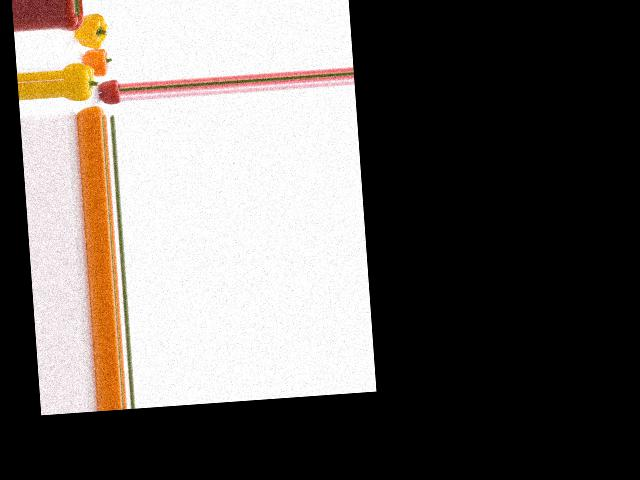bell_pepper: (75, 103, 107, 120)
